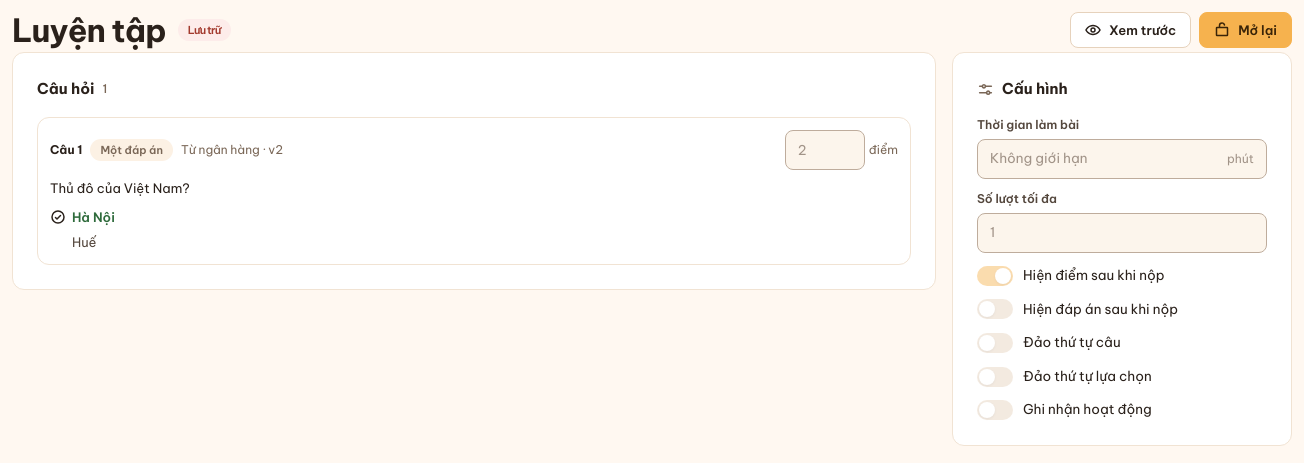
Scenario: QuizDetailPage › quiz đã lưu trữ mở lại được, không sửa hay lưu trữ lần nữa
Click the button with test id "quiz-detail-reopen" at (1246, 30), box [1199,12,1292,48]
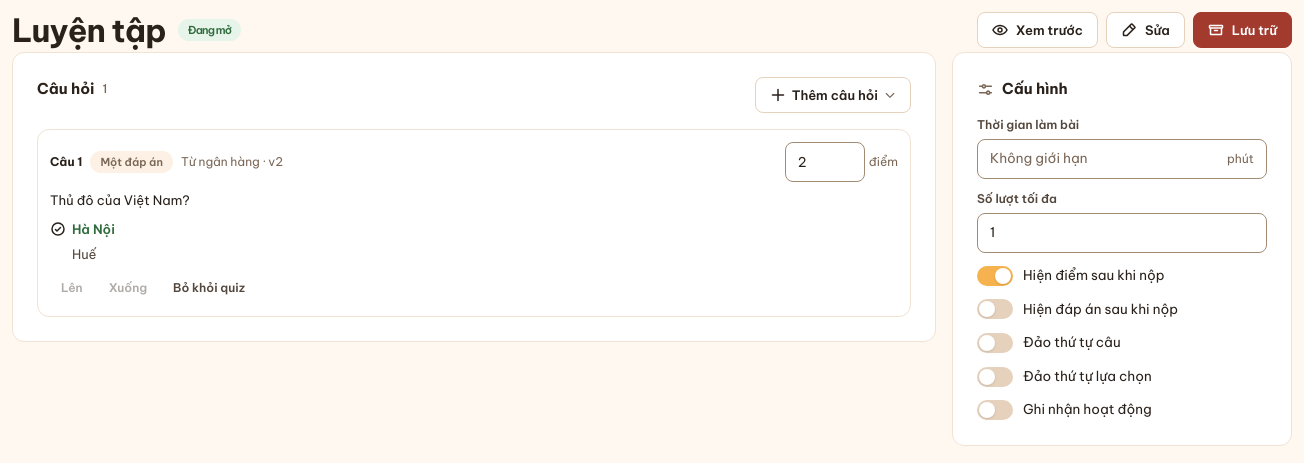
Expected: the button with test id "quiz-detail-edit" is shown, [1106,12,1185,48]
